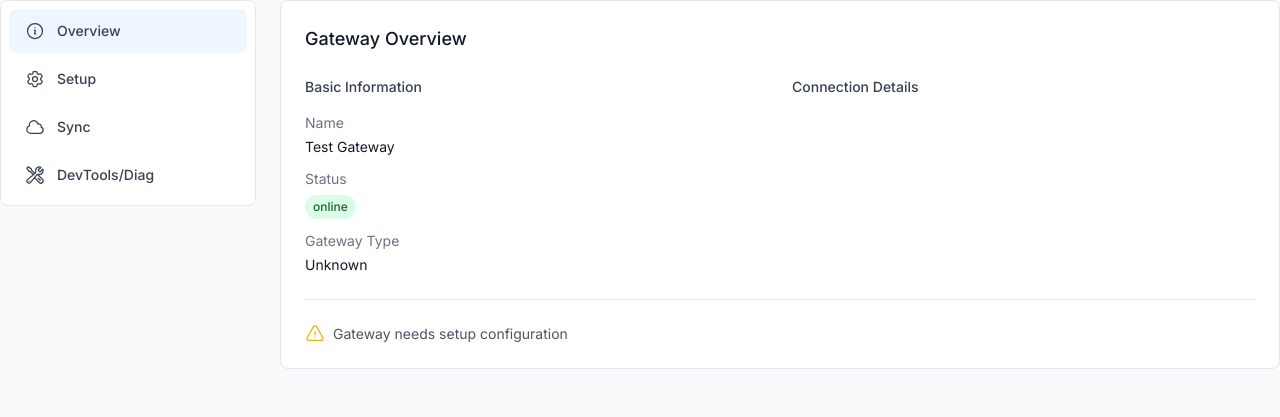
it: FacilityGatewayTab › Sync Now › should perform manual sync successfully
The image size is (1280, 417).
// Click the Sync tab
Click the button "Sync" at (128, 127), box [9, 105, 247, 149]
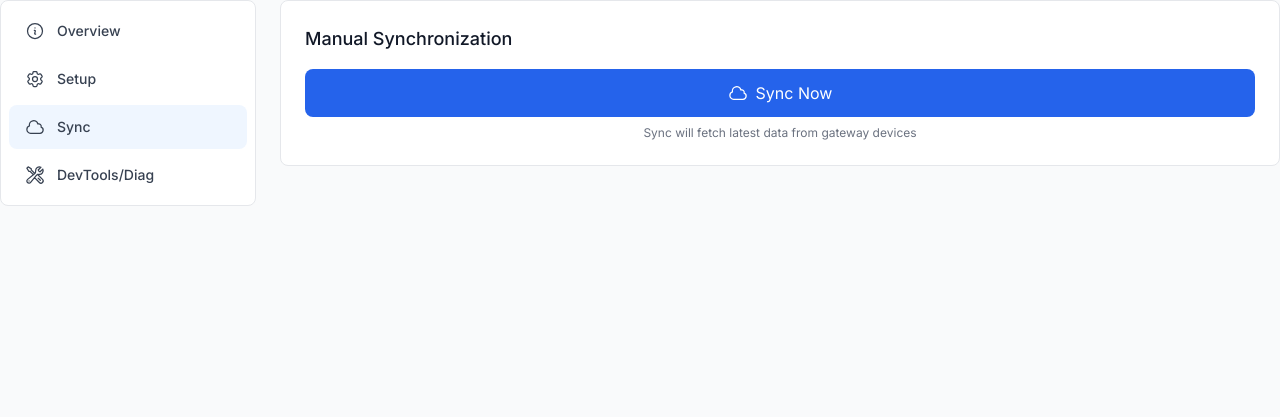
Result: the button "Sync Now" is shown
Click the button "Sync Now" at (780, 93), box [305, 69, 1255, 117]
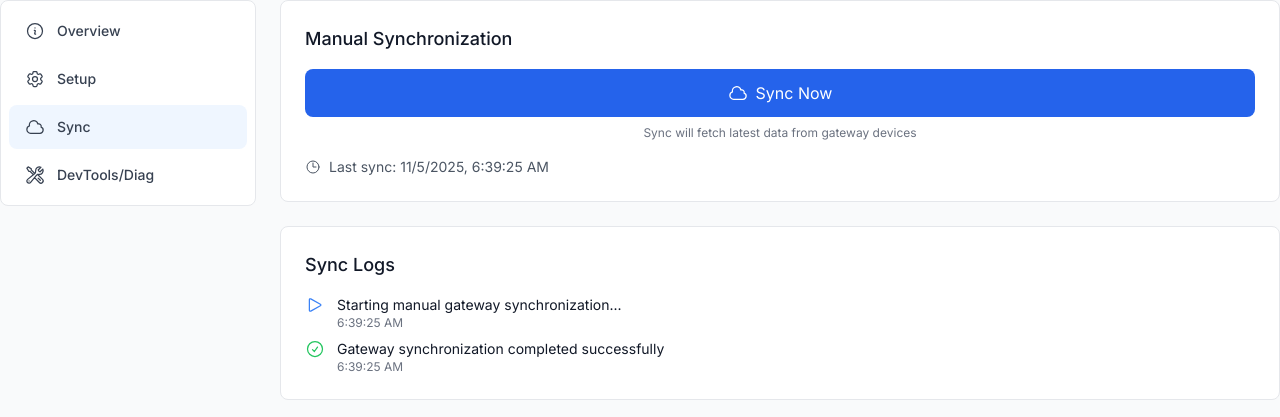
Result: the button "Syncing..." is shown at [305, 69, 1255, 117]
Result: the text "Starting manual gateway synchronization..." is shown at [337, 296, 622, 313]
Result: the text "Gateway synchronization completed successfully" is shown at [337, 340, 664, 357]
